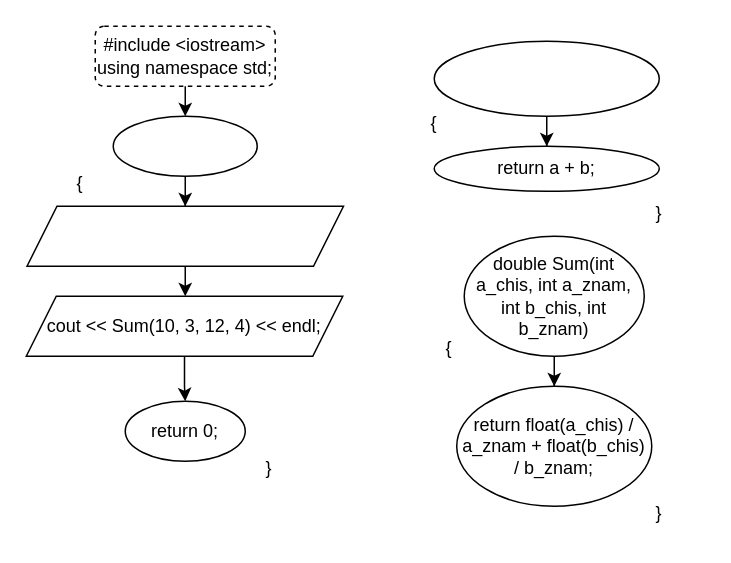
The diagram is 731 pixels wide and 563 high, and some of its shapes have lost their labels. The shapes that lost their labels are listed below. From the top down, each one's box as (x1, y1, x2, y2) in pixels, then its label:
(433, 40, 659, 116): double Sum(double a, double b)
(112, 115, 257, 176): int main()
(26, 205, 344, 266): cout << Sum(0.007, 0.13) << endl;
